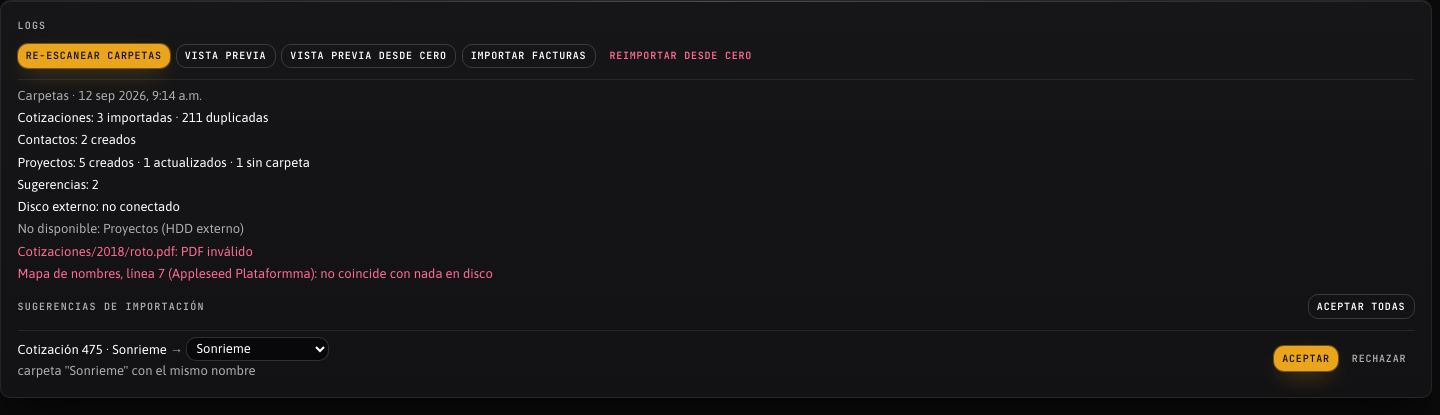
Configuración → Logs › accepts a Sugerencia once and stops asking
The image size is (1440, 415).
Expected: the text "Cotización 475 · Sonrieme" is shown, [18,341,167,356]
Click the button "Aceptar". click: (1306, 359)
box: [1274,346,1338,371]
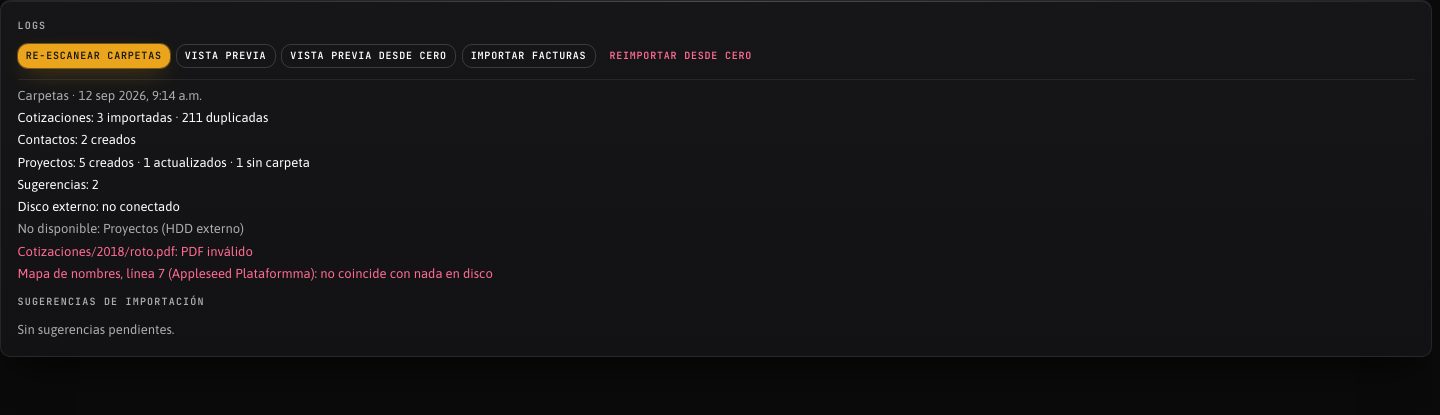
Expected: the text "Cotización 475 · Sonrieme" is gone
